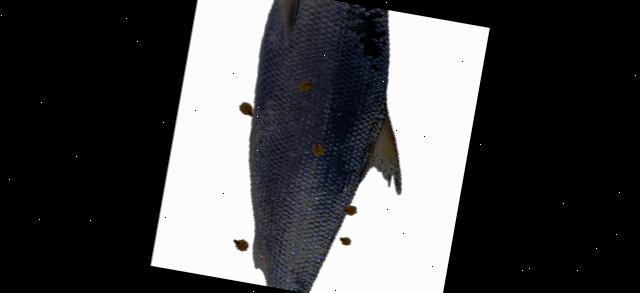Parasitic Disease: (250, 0, 400, 293)
